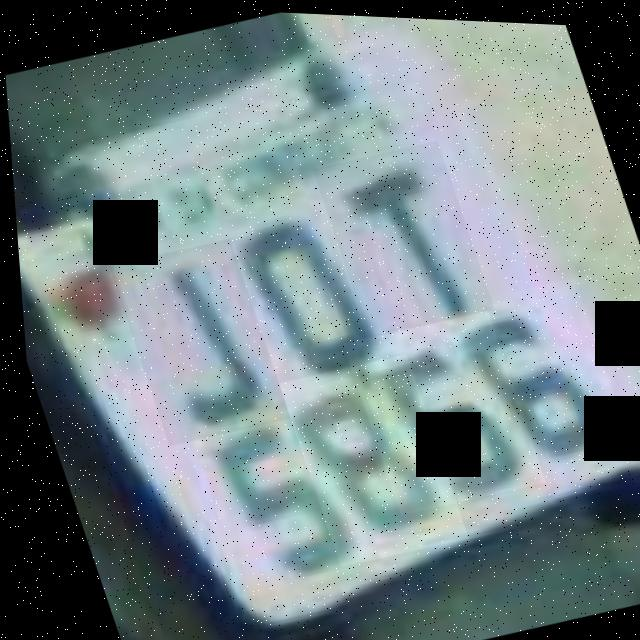5: (335, 301, 541, 516), (171, 387, 371, 601)
6: (430, 268, 630, 485)
8: (271, 346, 462, 568)
J: (102, 232, 286, 449)
T: (308, 132, 492, 339)
